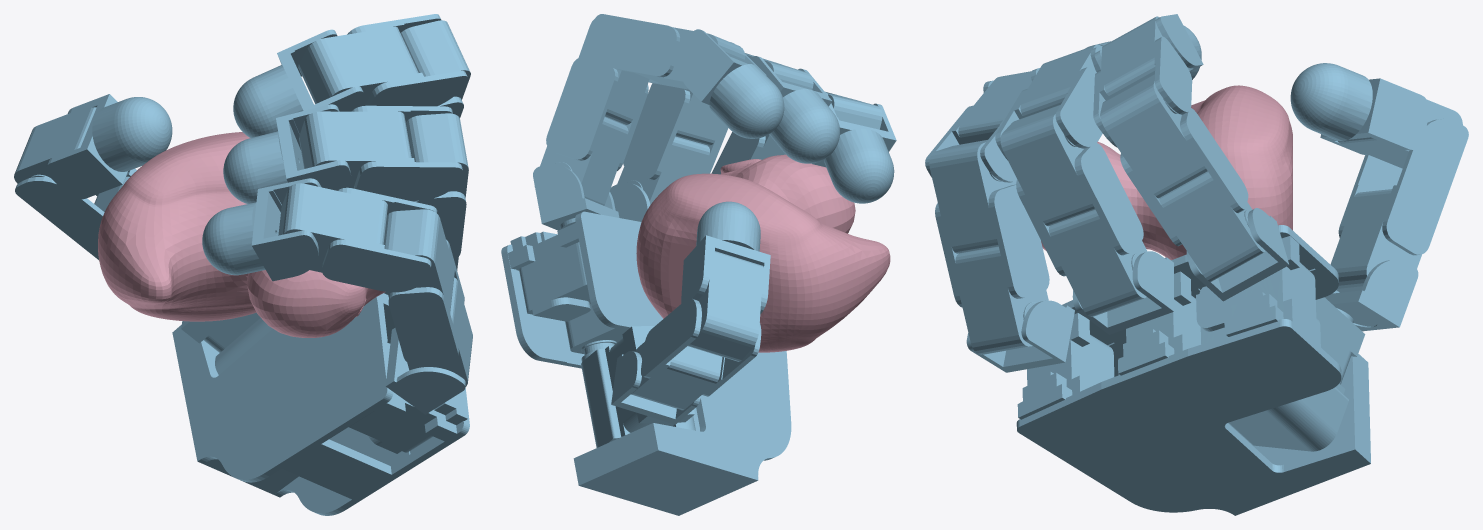
3 renders of one model, left to right at view 1: azimuth 30°, elevation 25°; view 2: azimuth 150°, elevation 25°; view 3: azimuth 270°, elevation 25°, orthographic. The views are drawn at different scales.
Visible parts, largest first — view 1: world; view 2: world; view 3: world.
Part boxes in pixels (x1,y1,x2,y2): world: (14, 14, 472, 515); world: (501, 14, 896, 515); world: (925, 14, 1468, 515).
Bounding box in the file's own units: 0.1415 × 0.1907 × 0.186.
